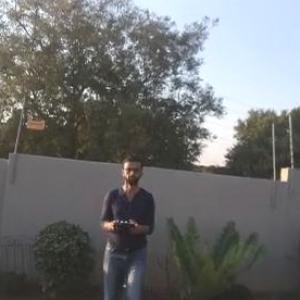follow: (96, 147, 158, 299)
